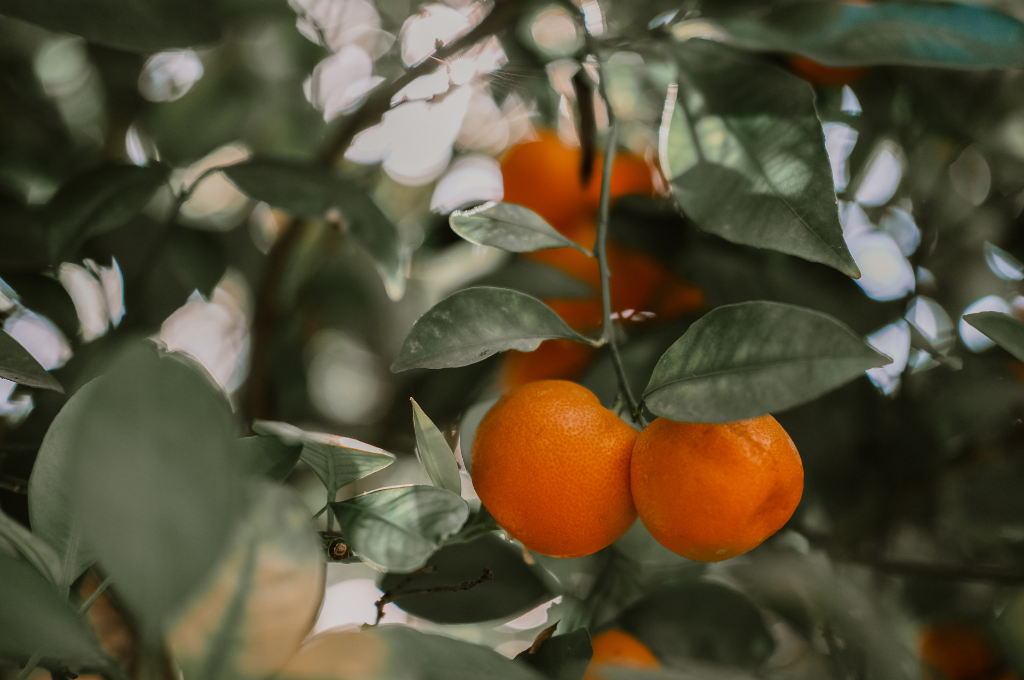laranja: (594, 335, 734, 475), (676, 310, 796, 430), (494, 160, 594, 260), (584, 150, 664, 230), (440, 140, 520, 220)
